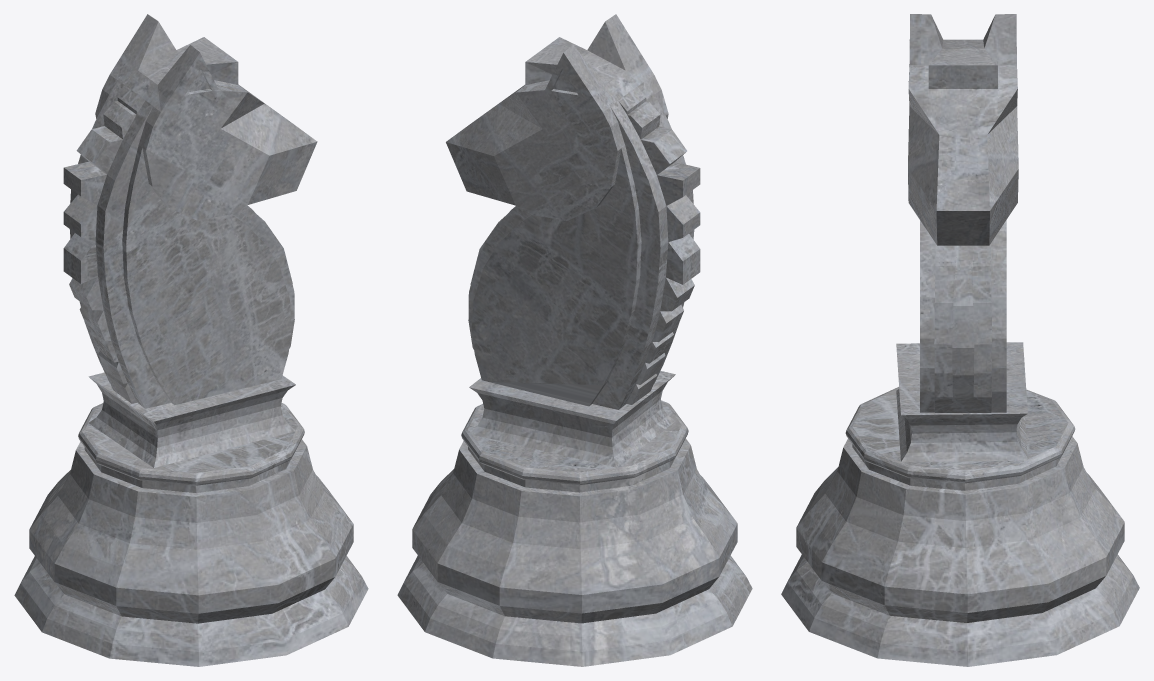
The model's file is knight.obj.
3 renders of one model, left to right at view 1: azimuth 30°, elevation 25°; view 2: azimuth 150°, elevation 25°; view 3: azimuth 270°, elevation 25°, orthographic.
Visible parts, largest first — view 1: knight; view 2: knight; view 3: knight.
Part boxes in pixels (box(x1,y1,x2,y2)): knight: box(14, 14, 368, 666); knight: box(397, 14, 752, 666); knight: box(781, 14, 1139, 666).
Size of the model in its own units: 0.1619 by 0.2835 by 0.1619.
1 material, 1 textured.
